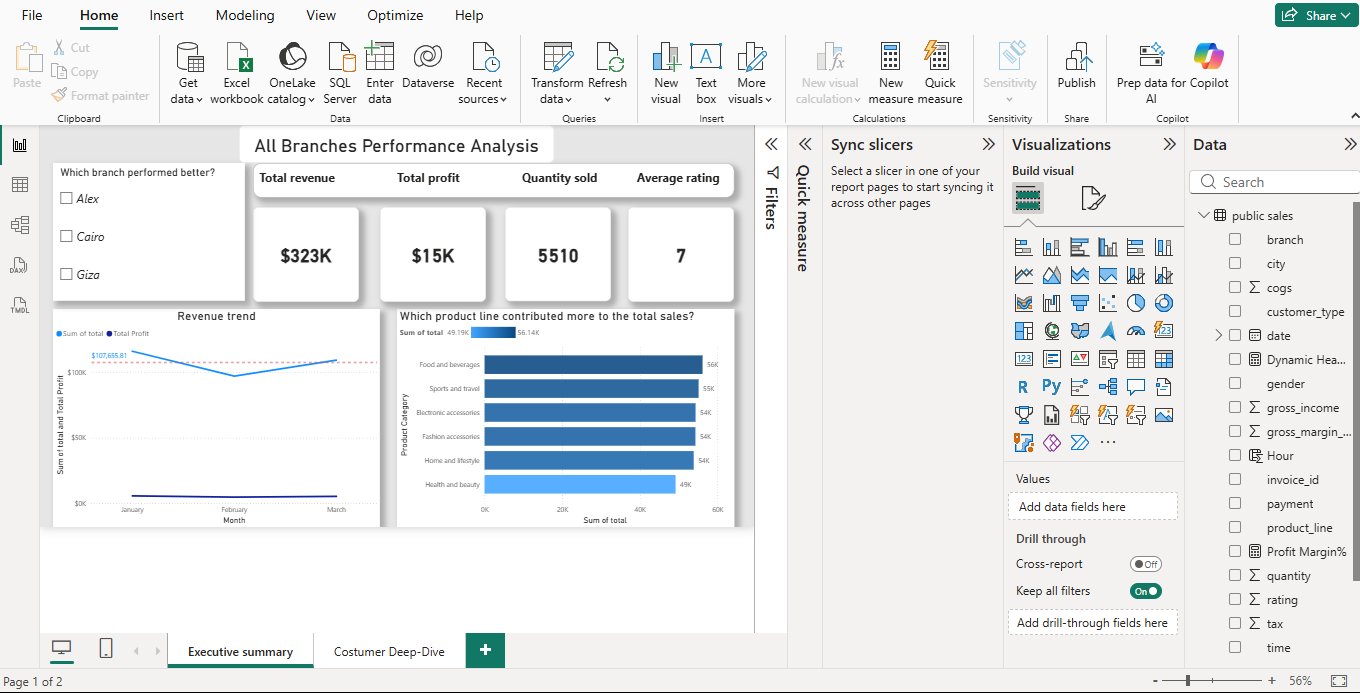

The page's visual inventory and layout, read from the dashboard file:
{"tool":"powerbi","page":{"name":"Executive summary","canvas":[1280,720],"ordinal":0},"visuals":[{"type":"card","fields":{"Values":["public sales.Total Revenue"]},"box":[381.3,146.1,189.8,169.7],"z":0},{"type":"card","fields":{"Values":["public sales.quantity"]},"box":[833.5,147,189.8,169.3],"z":1000},{"type":"card","fields":{"Values":["public sales.rating"]},"box":[1054.9,146.1,189.8,169.7],"z":2000},{"type":"lineChart","title":"Revenue trend","fields":{"Category":["public sales.date.Variation.Date Hierarchy.Year","public sales.date.Variation.Date Hierarchy.Quarter","public sales.date.Variation.Date Hierarchy.Month","public sales.date.Variation.Date Hierarchy.Day"],"Y":["public sales.total","public sales.Total Profit"]},"box":[23.5,329.2,586.2,391.4],"z":3000},{"type":"clusteredBarChart","title":"Which product line contributed more to the total sales?","fields":{"Category":["public sales.product_line"],"Y":["public sales.total"]},"box":[640,329.2,604.7,391.4],"z":4000},{"type":"slicer","fields":{"Values":["public sales.branch"]},"box":[23.5,68.9,344.4,246.9],"z":5000},{"type":"textbox","box":[381.3,68.9,863.4,62.2],"z":6000},{"type":"card","fields":{"Values":["public sales.Total Profit"]},"box":[609.8,146.1,189.8,169.7],"z":7000},{"type":"card","fields":{"Values":["public sales.Dynamic Header"]},"box":[356.8,0,564.7,68.1],"z":8001}]}

Visuals, with their boxes on the page's 1280x720 design canvas (x1, y1, x2, y2). These are canvas units, not pixel positions in the 1360x693 screenshot, which may show the page scaled, cropped or inside an application window:
card - public sales.Total Revenue: rect(381, 146, 571, 316)
card - public sales.quantity: rect(834, 147, 1023, 316)
card - public sales.rating: rect(1055, 146, 1245, 316)
"Revenue trend" lineChart: rect(24, 329, 610, 721)
"Which product line contributed more to the total sales?" clusteredBarChart: rect(640, 329, 1245, 721)
slicer - public sales.branch: rect(24, 69, 368, 316)
textbox: rect(381, 69, 1245, 131)
card - public sales.Total Profit: rect(610, 146, 800, 316)
card - public sales.Dynamic Header: rect(357, 0, 922, 68)
